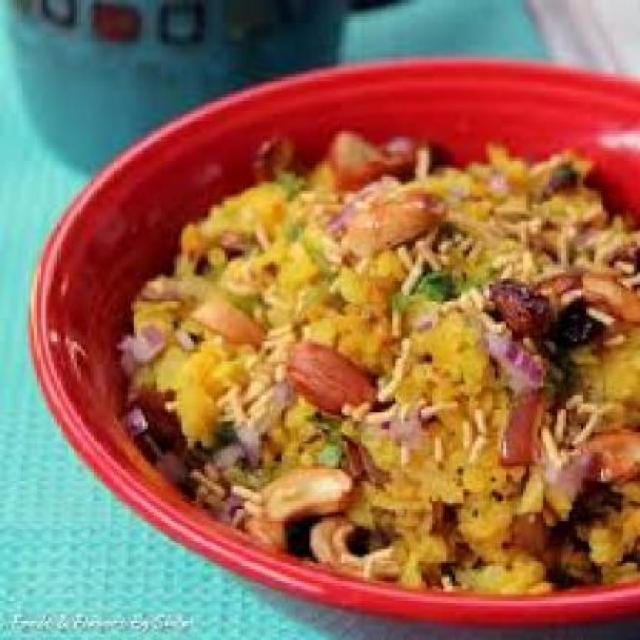poha: (117, 131, 640, 594)
